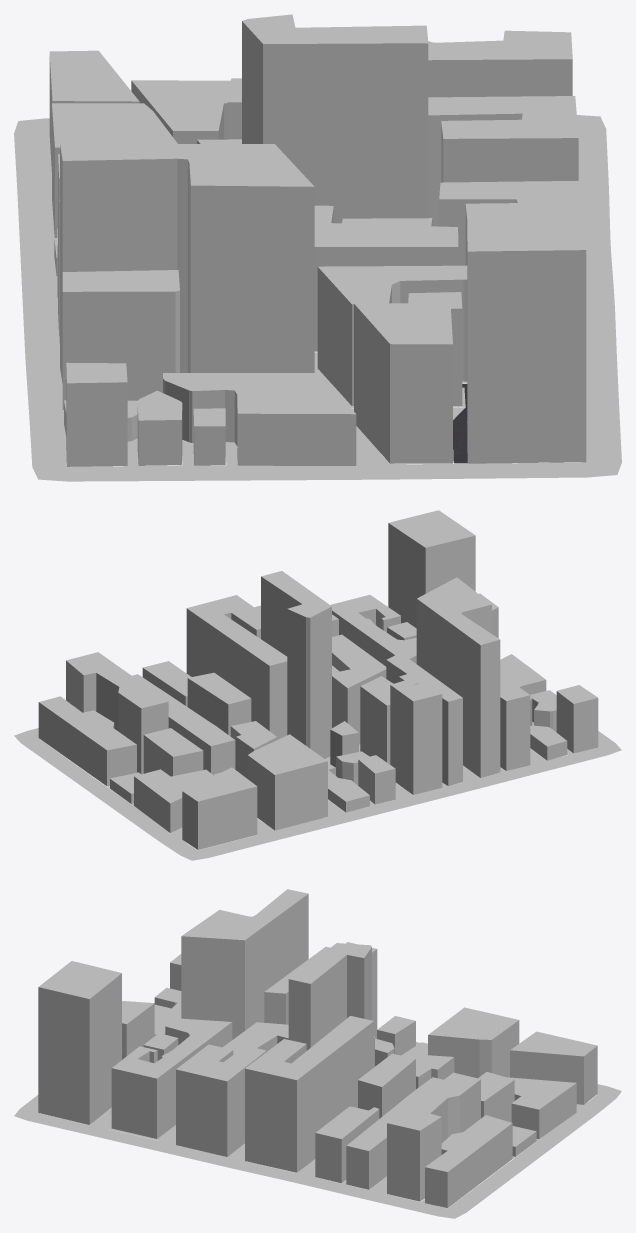
Rendered from city_prototype.obj.
The picture shows the model from 3 angles, top to bottom: view 1: azimuth 30°, elevation 25°; view 2: azimuth 150°, elevation 25°; view 3: azimuth 270°, elevation 25°; orthographic projection. The views are drawn at different scales.
Parts seen in each view (by area): view 1: buildings_Plane.017, roads.001_Plane.013, alleys3.001_Plane.016, alleys2.001_Plane.015; view 2: buildings_Plane.017, roads.001_Plane.013; view 3: buildings_Plane.017, roads.001_Plane.013.
Boxes of the visible parts, box(x1,y1,x2,y2) form: buildings_Plane.017: box(49, 14, 586, 466); roads.001_Plane.013: box(14, 115, 621, 481); alleys3.001_Plane.016: box(60, 385, 238, 467); alleys2.001_Plane.015: box(453, 384, 467, 463); buildings_Plane.017: box(38, 510, 598, 849); roads.001_Plane.013: box(14, 728, 621, 860); buildings_Plane.017: box(38, 889, 597, 1207); roads.001_Plane.013: box(14, 1042, 621, 1218).
Size of the model in its own units: 616 by 187 by 689.
